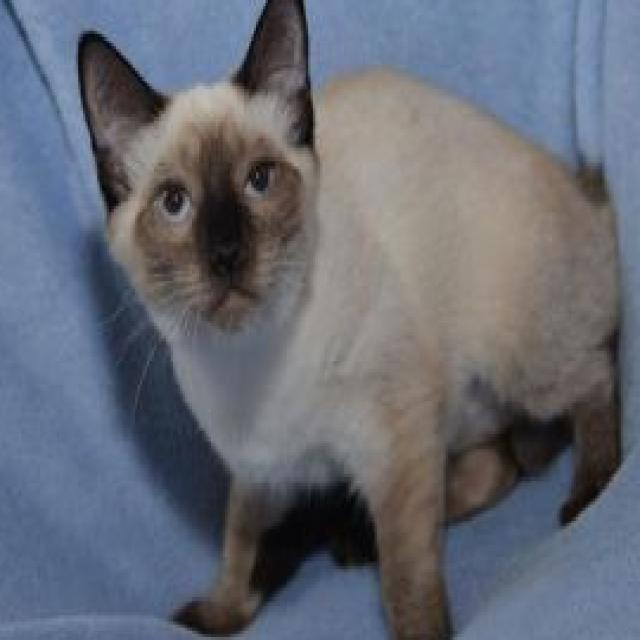Siamese: (74, 0, 624, 640)
